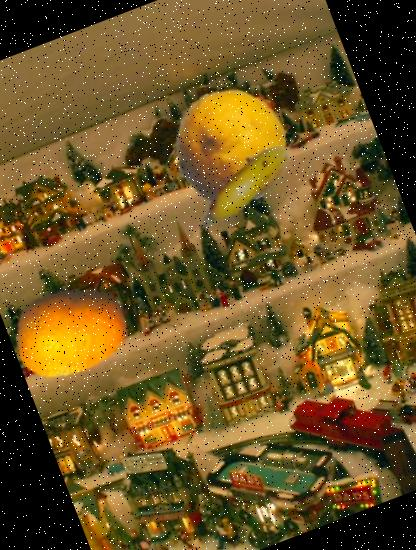Banana: (167, 111, 316, 260)
Kumquats: (0, 260, 144, 405)
Lemon: (155, 72, 307, 224)
